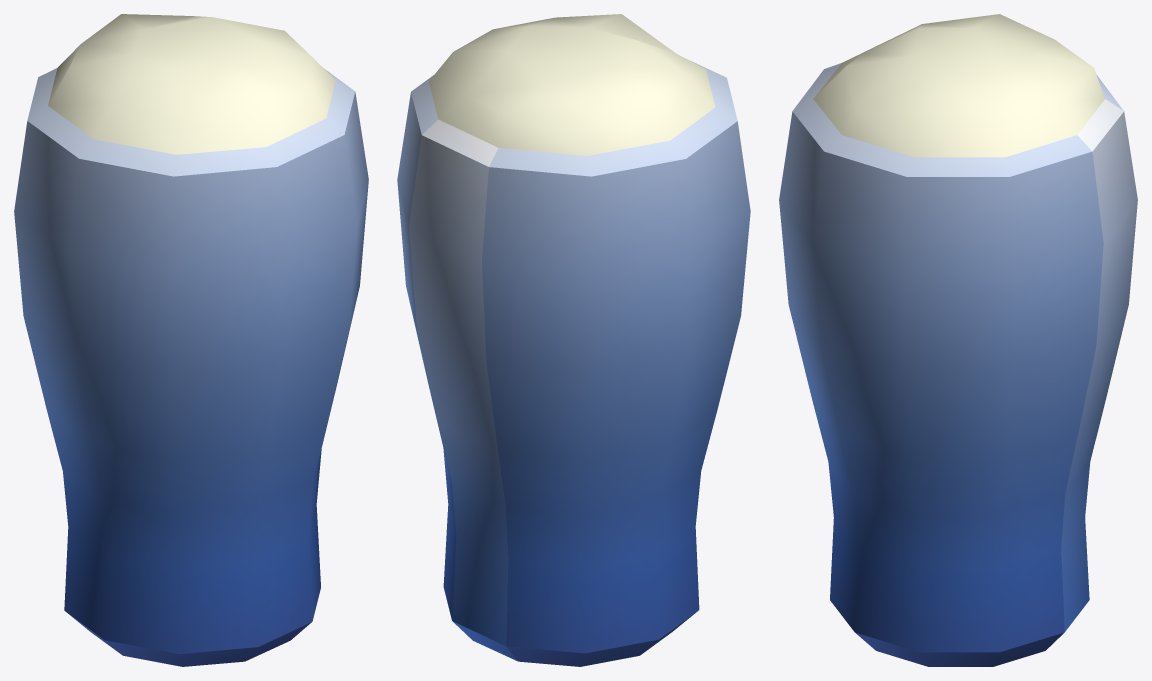
The model's file is m_IrishImperialPintBeer01.fbx.
The picture shows the model from 3 angles, left to right: view 1: azimuth 30°, elevation 25°; view 2: azimuth 150°, elevation 25°; view 3: azimuth 270°, elevation 25°; orthographic projection.
Visible parts, largest first — view 1: m_IrishImperialPintBeer01; view 2: m_IrishImperialPintBeer01; view 3: m_IrishImperialPintBeer01.
Part boxes in pixels (x1,y1,x2,y2): m_IrishImperialPintBeer01: [14, 14, 368, 666]; m_IrishImperialPintBeer01: [397, 14, 750, 666]; m_IrishImperialPintBeer01: [779, 14, 1137, 666].
Size of the model in its own units: 12.89 by 23.92 by 13.55.
